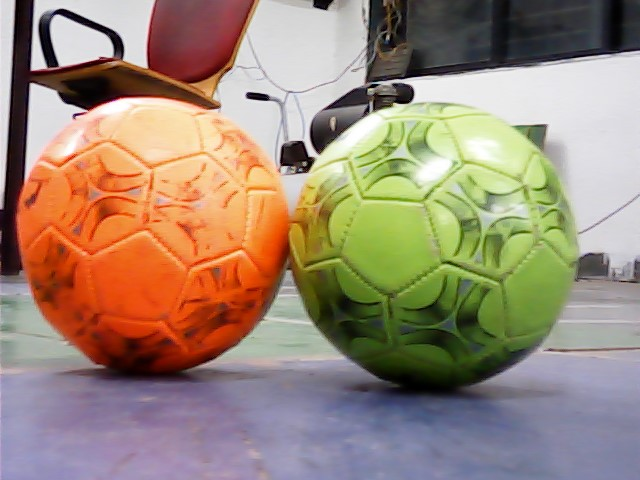Green_ball: (293, 104, 583, 401)
Orange_ball: (12, 91, 301, 392)
